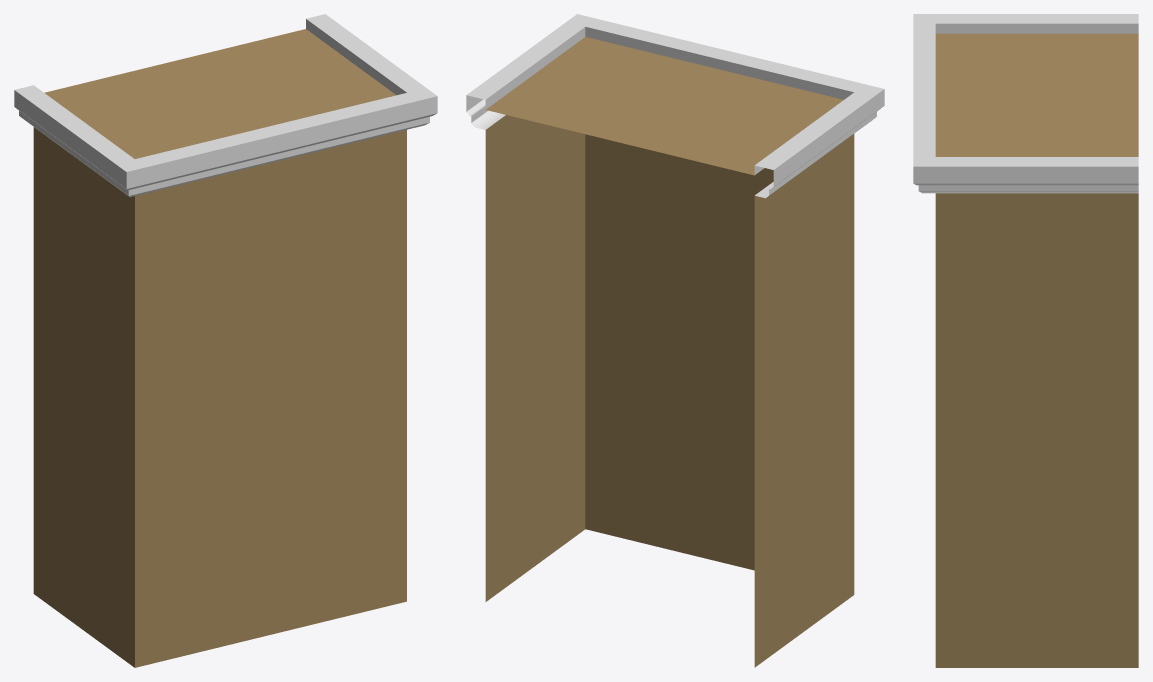
Rendered from Building_rooftop_end.fbx.
3 renders of one model, left to right at view 1: azimuth 30°, elevation 25°; view 2: azimuth 150°, elevation 25°; view 3: azimuth 270°, elevation 25°, orthographic.
Visible parts, largest first — view 1: Building_rooftop_end_object; view 2: Building_rooftop_end_object; view 3: Building_rooftop_end_object.
Part boxes in pixels (box(x1,y1,x2,y2)): Building_rooftop_end_object: box(14, 14, 437, 667); Building_rooftop_end_object: box(466, 14, 884, 667); Building_rooftop_end_object: box(913, 14, 1138, 667).
Size of what is drawn, in the model's own units: 6400 by 10000 by 4000.
